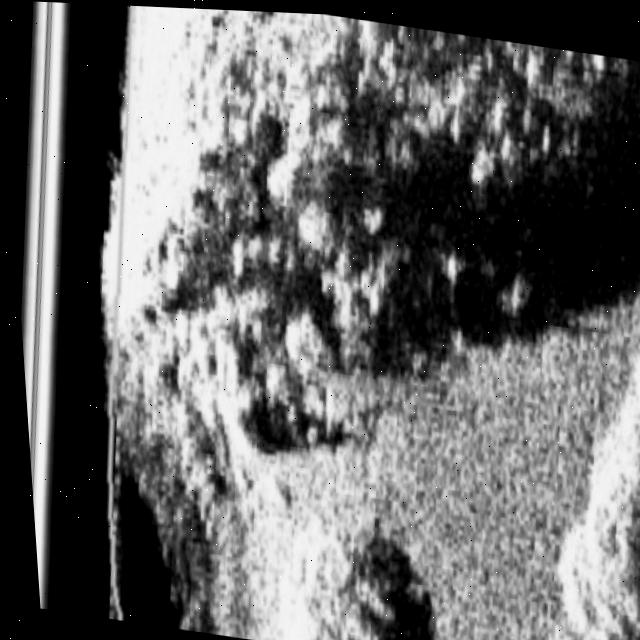bedrock group: (58, 2, 640, 640)
